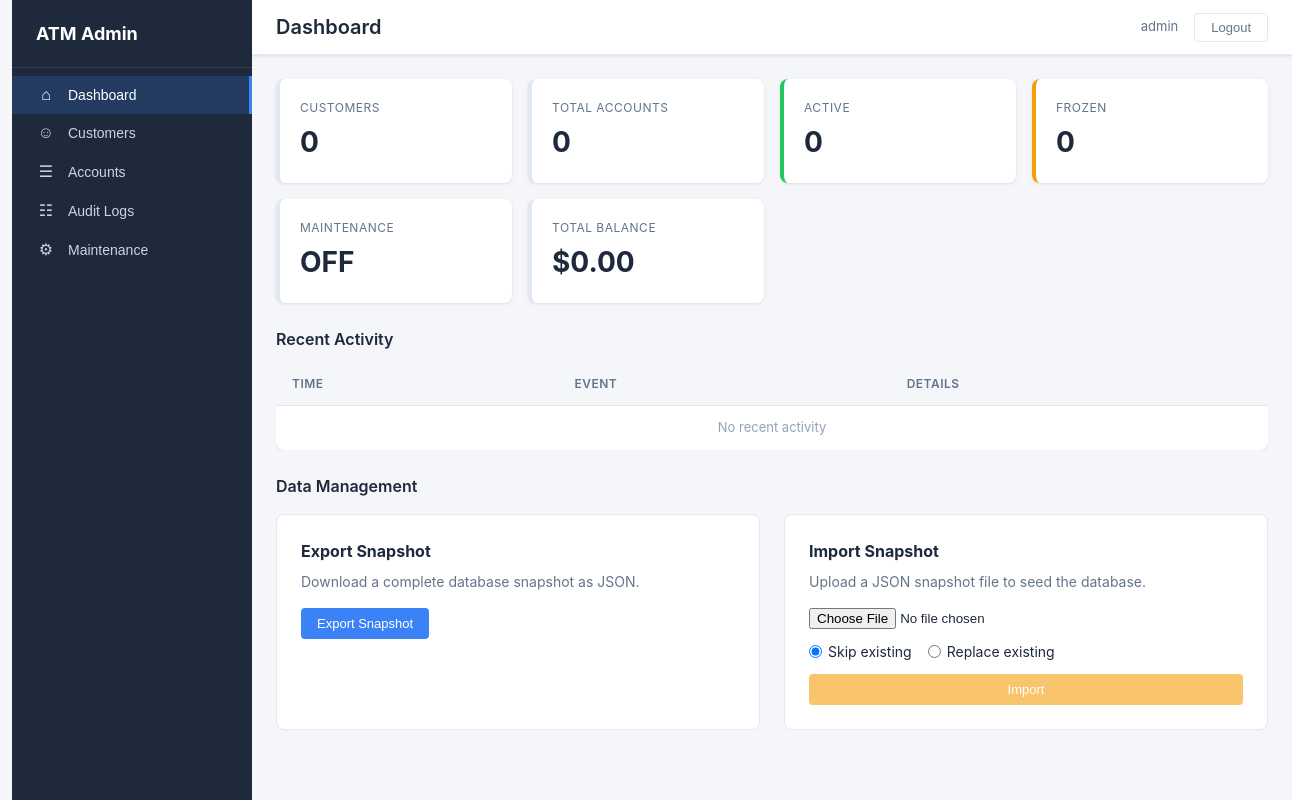
it: App › logs out and returns to login
Click the button "Logout" at (1231, 27), box x1=1194 y1=12 x2=1268 y2=42
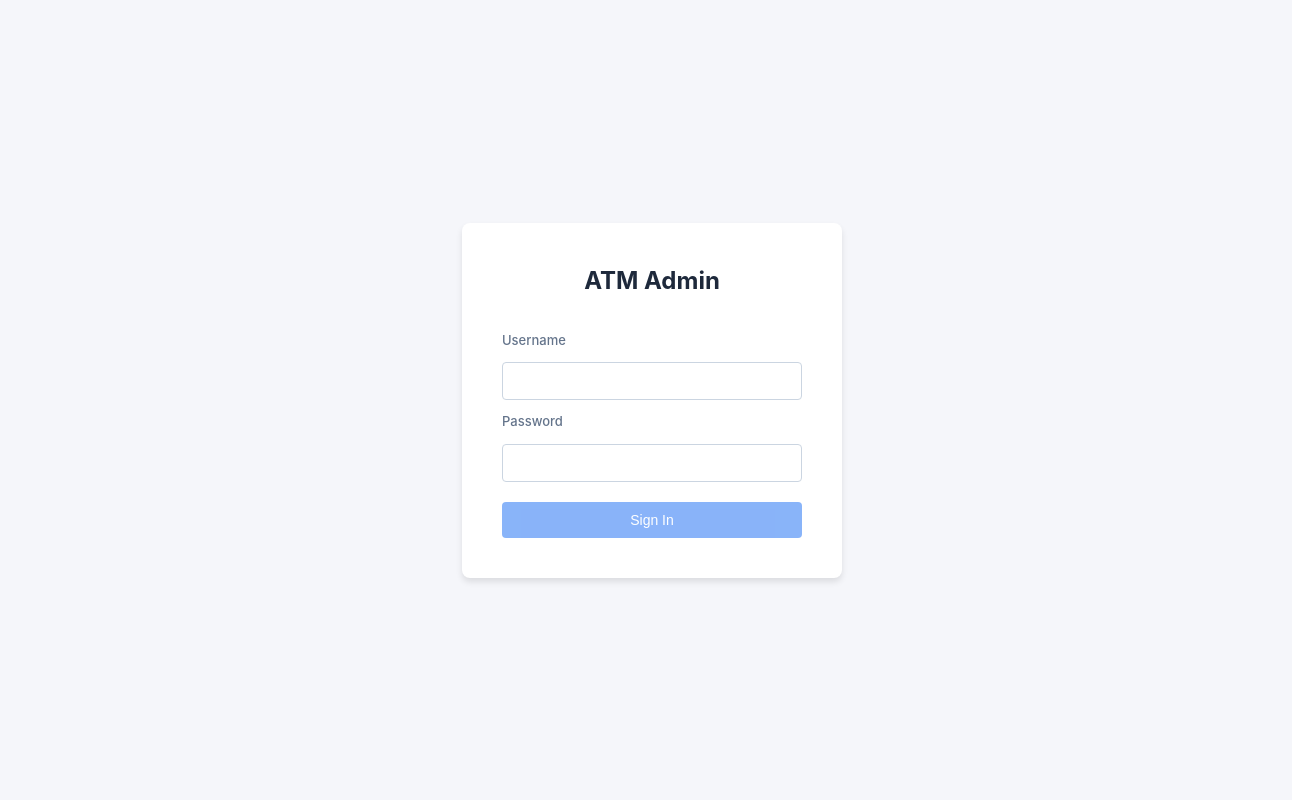
Result: the field labelled "Username" is shown at x1=502 y1=362 x2=802 y2=400
